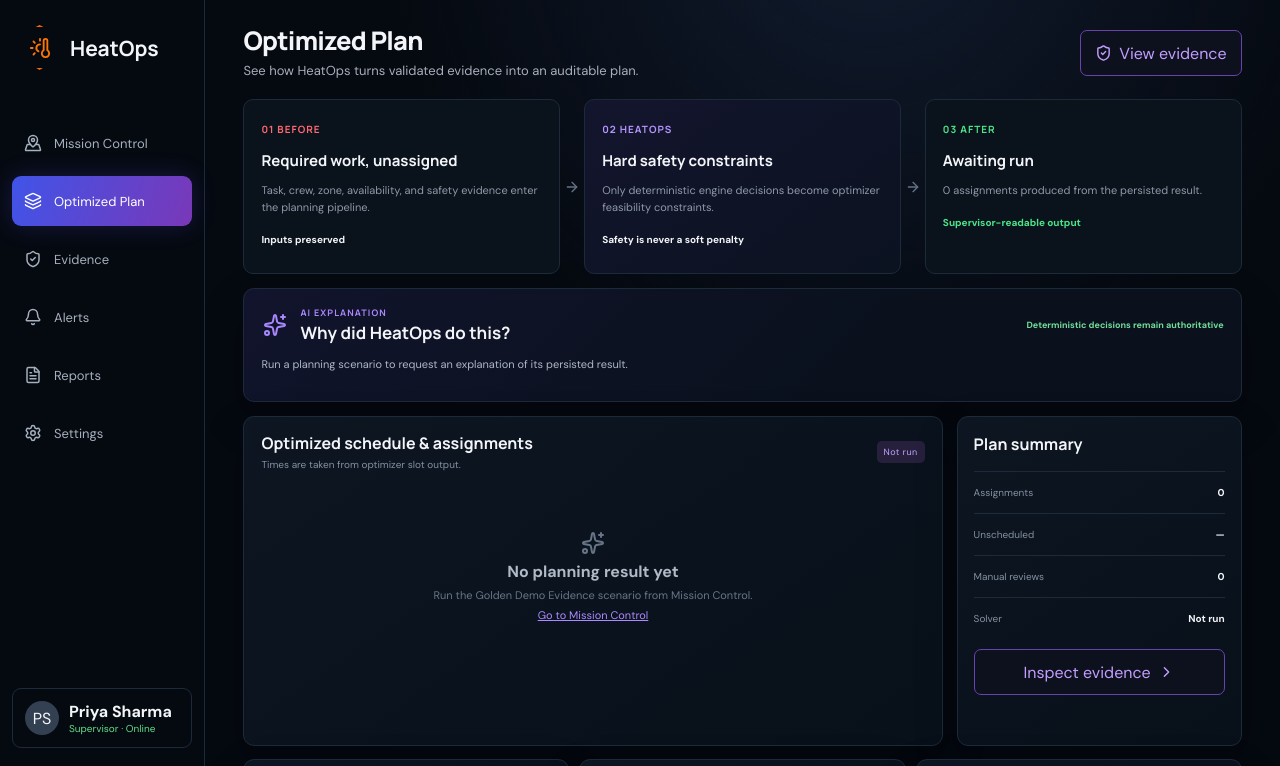
HeatOps application navigation › supports click-through from plan to evidence
Click the link "View evidence" at (1161, 53), box left=1080, top=30, right=1242, bottom=76
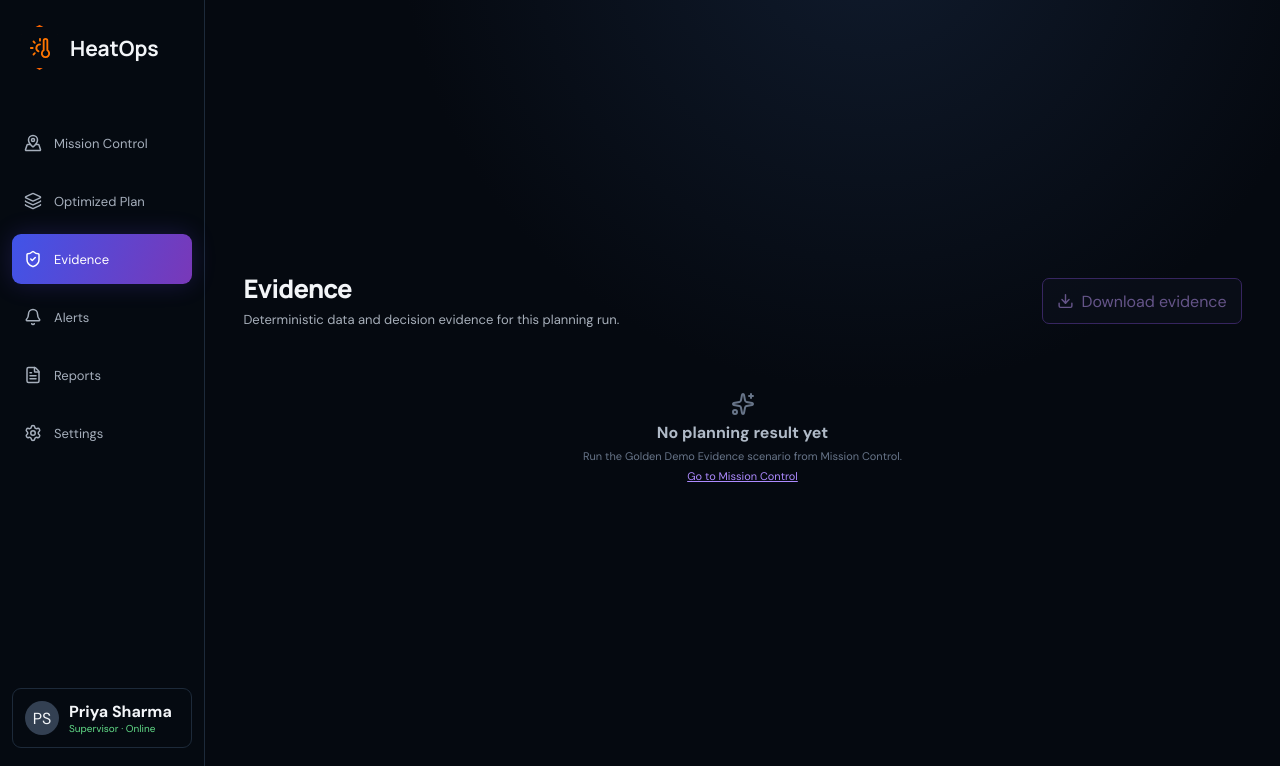
Now the heading "Evidence" is shown, box left=243, top=271, right=352, bottom=306
